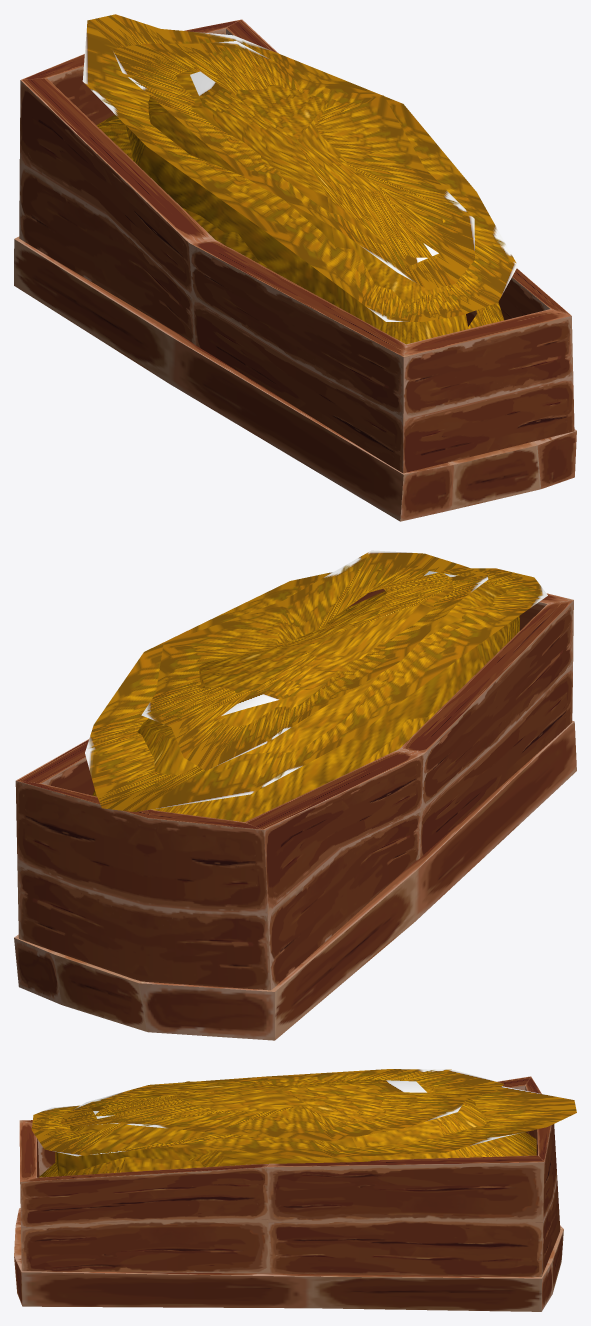
Rendered from SM_PROP_trough_01.glb.
3 renders of one model, top to bottom at view 1: azimuth 30°, elevation 25°; view 2: azimuth 150°, elevation 25°; view 3: azimuth 270°, elevation 25°, orthographic. The views are drawn at different scales.
Parts seen in each view (by area): view 1: SM_PROP_trough_01_EXPORT; view 2: SM_PROP_trough_01_EXPORT; view 3: SM_PROP_trough_01_EXPORT.
Boxes of the visible parts, x1,y1,x2,y2 form: SM_PROP_trough_01_EXPORT: (14, 14, 576, 521); SM_PROP_trough_01_EXPORT: (14, 550, 576, 1040); SM_PROP_trough_01_EXPORT: (14, 1069, 576, 1311).
Bounding box in the file's own units: 1.04 × 0.924 × 2.61.
Materials: 2 (2 with a texture image).
